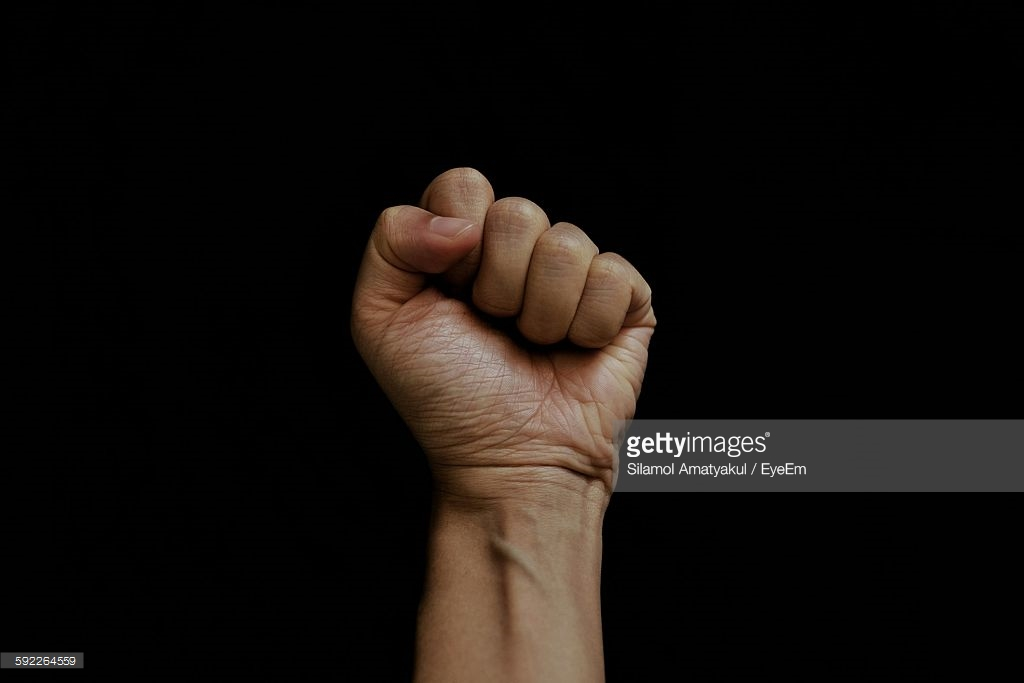fist: (340, 151, 659, 512)
